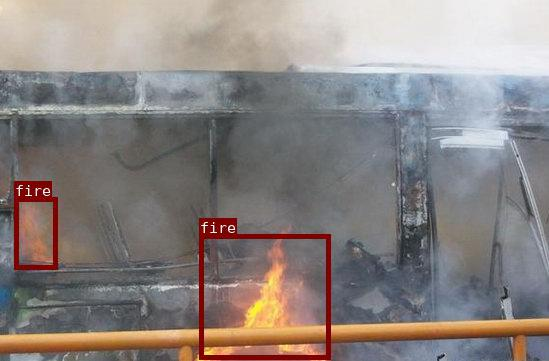fire: (198, 233, 329, 358), (13, 196, 56, 268)
